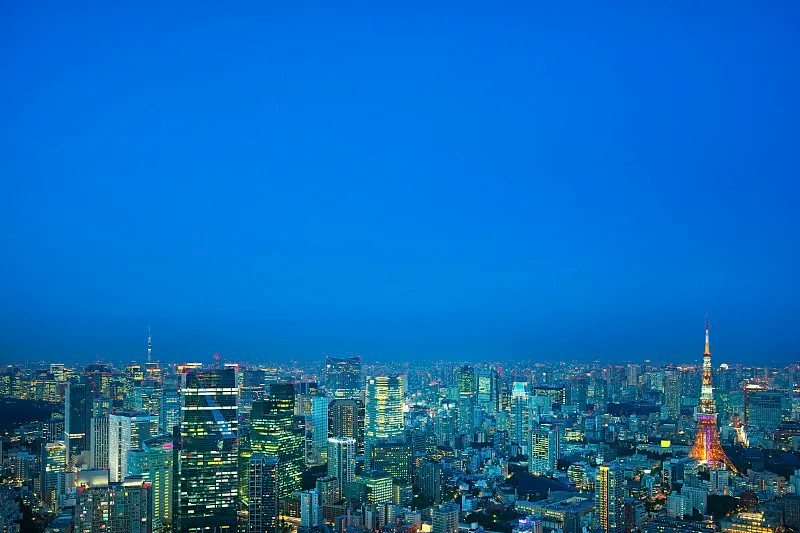Tokyo: (689, 312, 742, 474)
